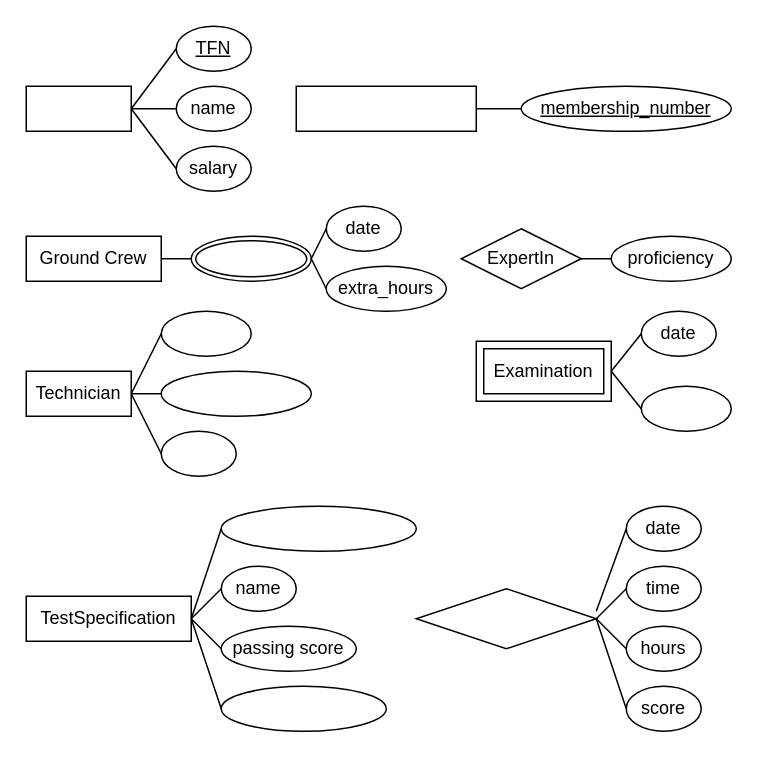
This 758x758 diagram has some shape labels left out. Each missing label, with the box of its shape:
address: (160, 310, 251, 356)
CASA_test_number: (220, 505, 416, 551)
doctor: (640, 385, 731, 431)
email: (160, 430, 236, 476)
Employee: (25, 85, 131, 131)
extra_work: (190, 235, 311, 281)
max_total_score: (220, 685, 386, 731)
mobile_number: (160, 370, 311, 416)
SocialClubMember: (295, 85, 476, 131)
TestingEvent: (415, 587, 596, 649)
